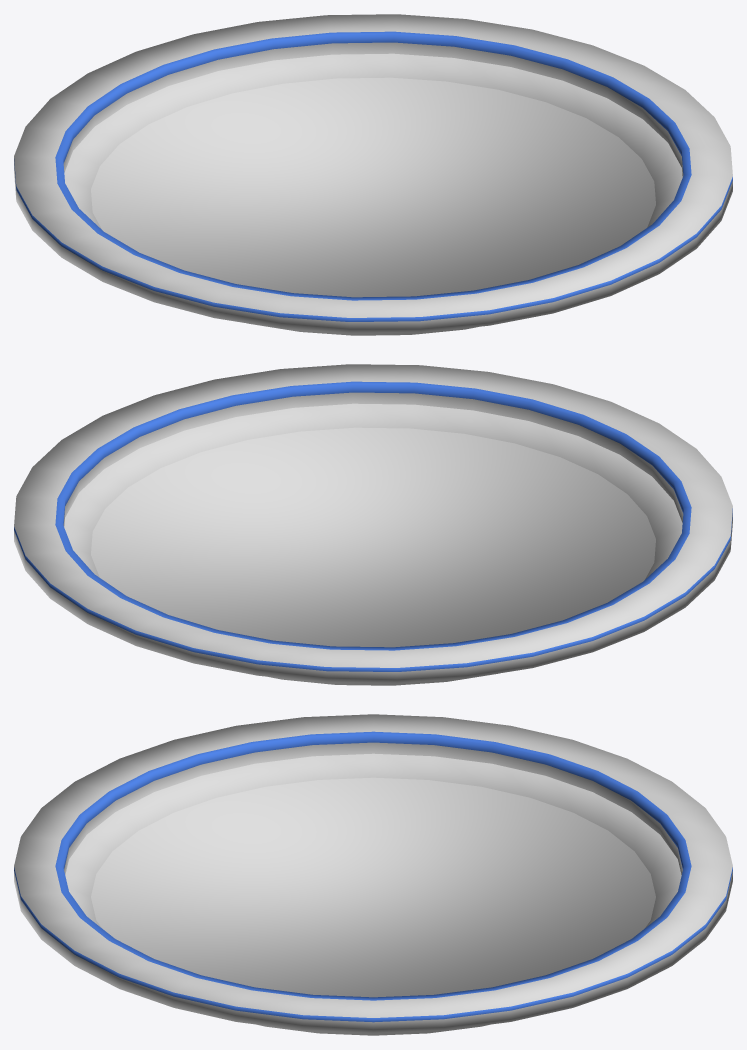
The model's file is plate.glb.
3 renders of one model, top to bottom at view 1: azimuth 30°, elevation 25°; view 2: azimuth 150°, elevation 25°; view 3: azimuth 270°, elevation 25°, orthographic.
Parts seen in each view (by area): view 1: Cylinder.013; view 2: Cylinder.013; view 3: Cylinder.013.
Boxes of the visible parts, x1,y1,x2,y2 form: Cylinder.013: [14, 14, 732, 335]; Cylinder.013: [14, 364, 732, 685]; Cylinder.013: [14, 714, 732, 1035].
Size of the model in its own units: 0.3924 by 0.0302 by 0.3924.
